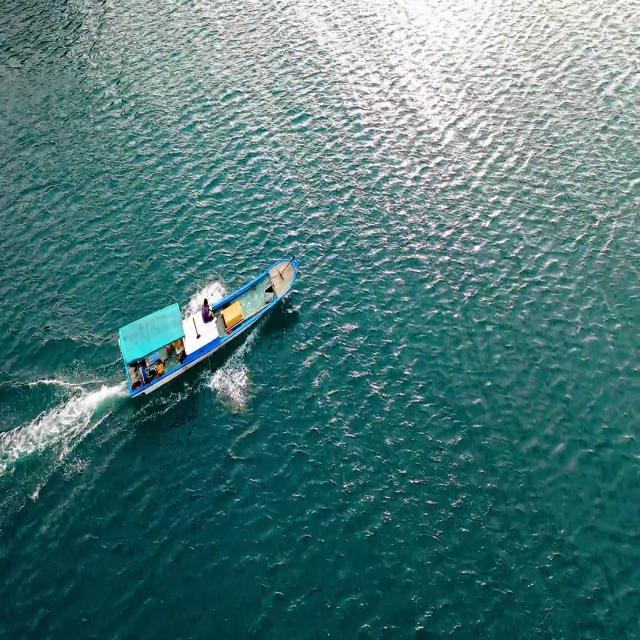ship: (119, 247, 299, 411)
